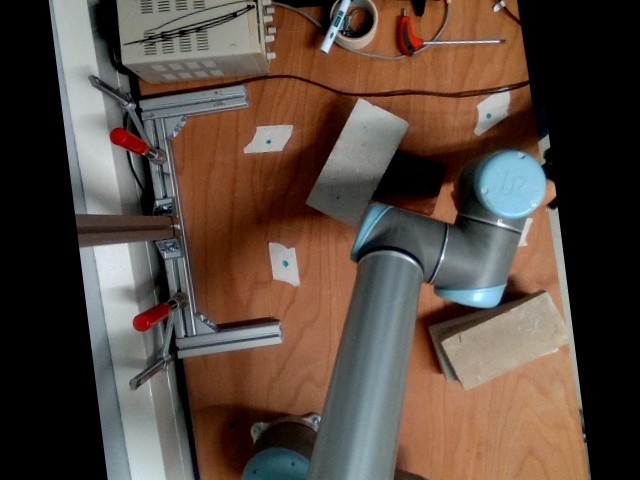brick: (445, 291, 573, 392)
